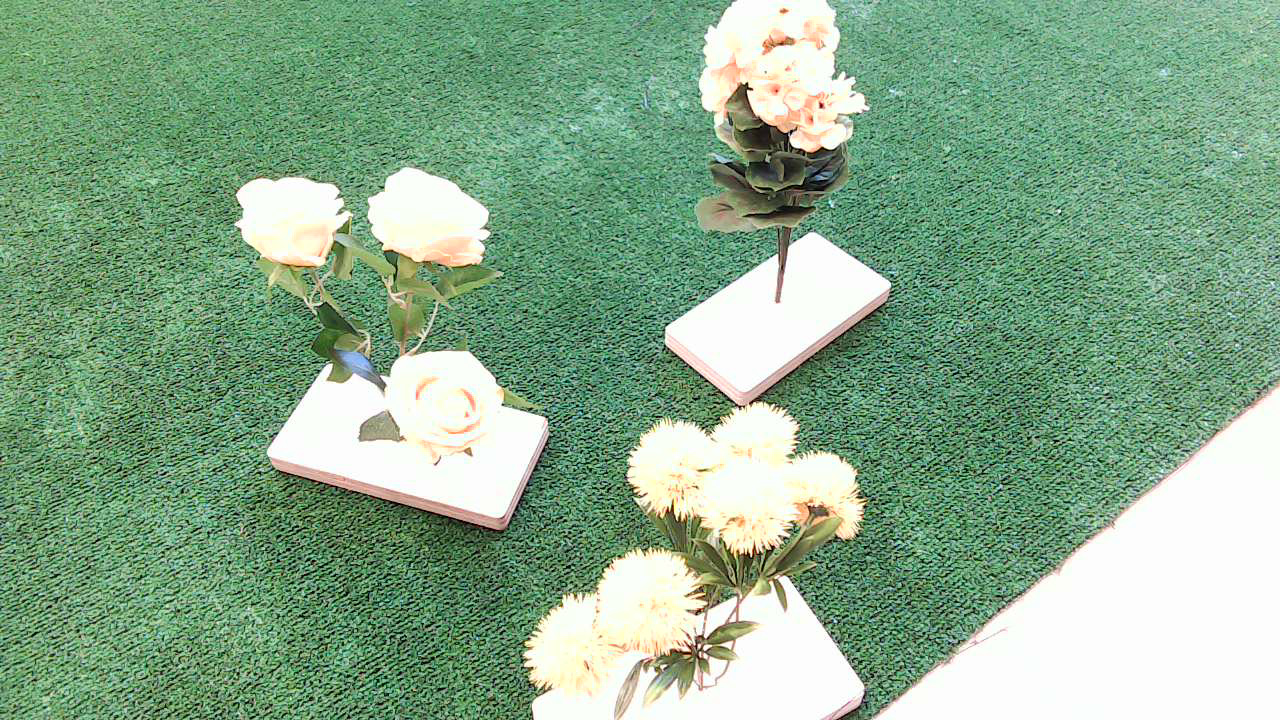dandelion: (521, 404, 895, 715)
geranium: (667, 6, 883, 288)
rose: (211, 143, 517, 470)
